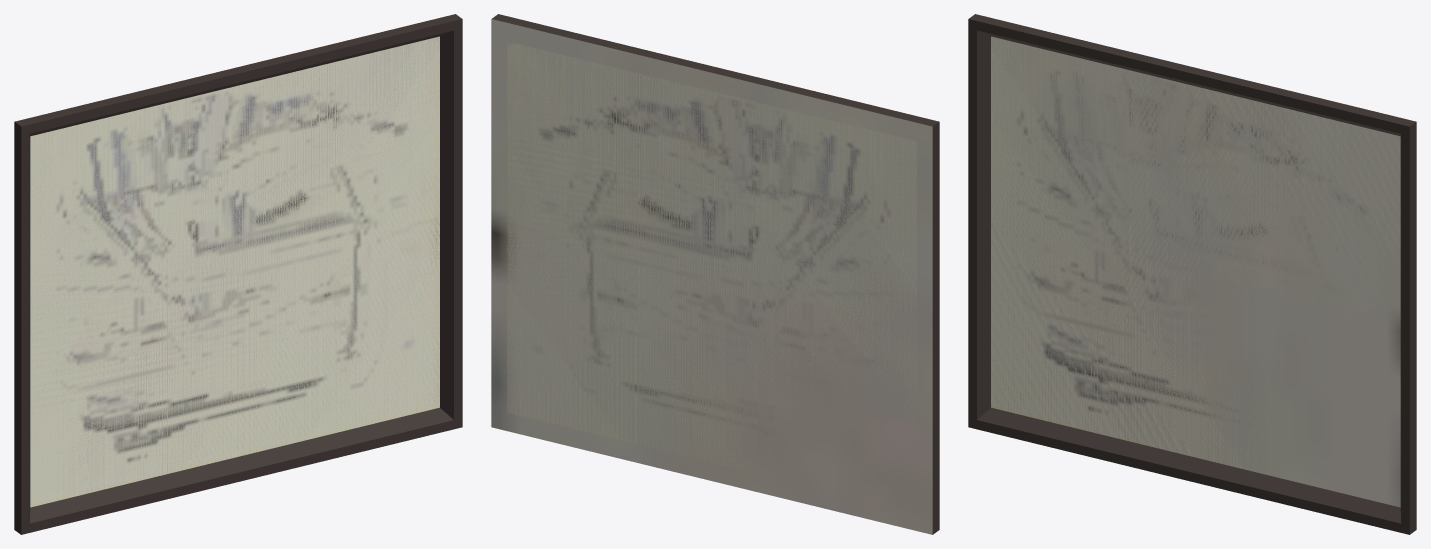
The model's file is diploma03_wau.dae.
The picture shows the model from 3 angles, left to right: view 1: azimuth 30°, elevation 25°; view 2: azimuth 150°, elevation 25°; view 3: azimuth 330°, elevation 25°; orthographic projection.
Parts seen in each view (by area): view 1: pPlane5; view 2: pPlane5; view 3: pPlane5.
Part boxes in pixels (x1,y1,x2,y2): pPlane5: (14, 14, 462, 534); pPlane5: (491, 14, 939, 534); pPlane5: (968, 14, 1416, 534).
Size of the model in its own units: 26.66 by 23.58 by 0.7117.
